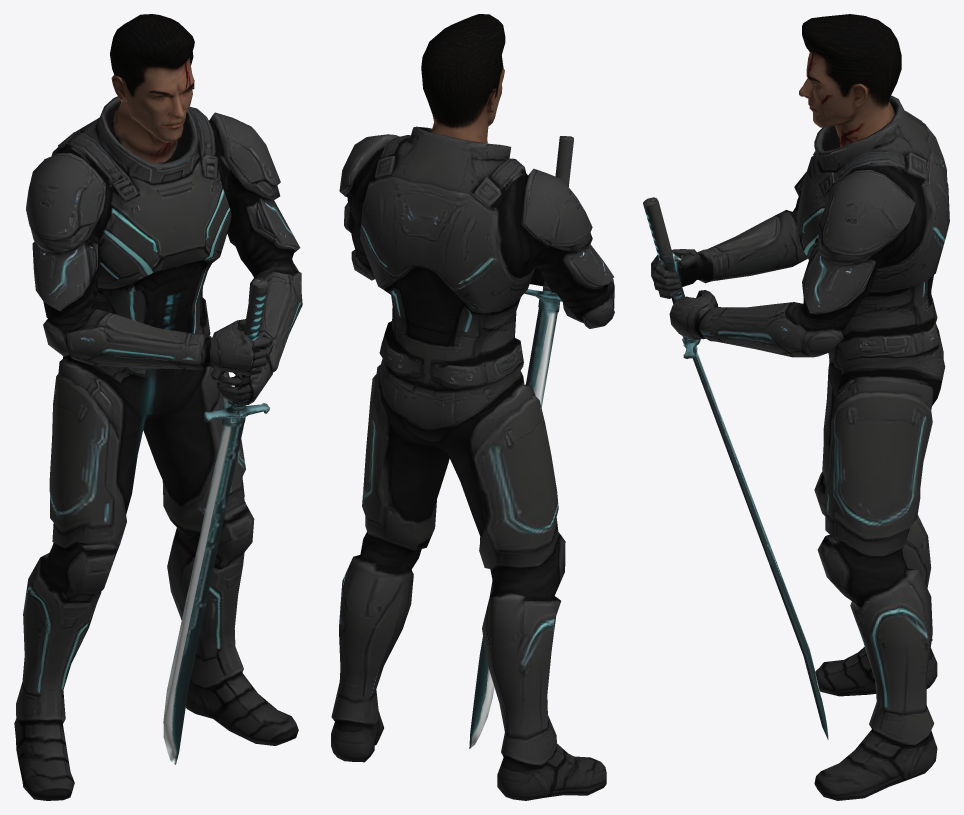
The model's file is 019efaed-7f2c-76d3-aa93-67c7d7c0e552.glb.
3 views of the same model, side by side, from view 1: azimuth 30°, elevation 25°; view 2: azimuth 150°, elevation 25°; view 3: azimuth 270°, elevation 25° (orthographic). The views are drawn at different scales.
Parts seen in each view (by area): view 1: tripo_node_e88f857b-b5da-4eed-8691-c513e3b6bb9e; view 2: tripo_node_e88f857b-b5da-4eed-8691-c513e3b6bb9e; view 3: tripo_node_e88f857b-b5da-4eed-8691-c513e3b6bb9e.
Boxes of the visible parts, x1,y1,x2,y2 form: tripo_node_e88f857b-b5da-4eed-8691-c513e3b6bb9e: (14,14,302,800); tripo_node_e88f857b-b5da-4eed-8691-c513e3b6bb9e: (331,14,614,800); tripo_node_e88f857b-b5da-4eed-8691-c513e3b6bb9e: (643,14,949,800).
Size of the model in its own units: 0.377 by 0.998 by 0.3848.
1 material, 1 textured.
